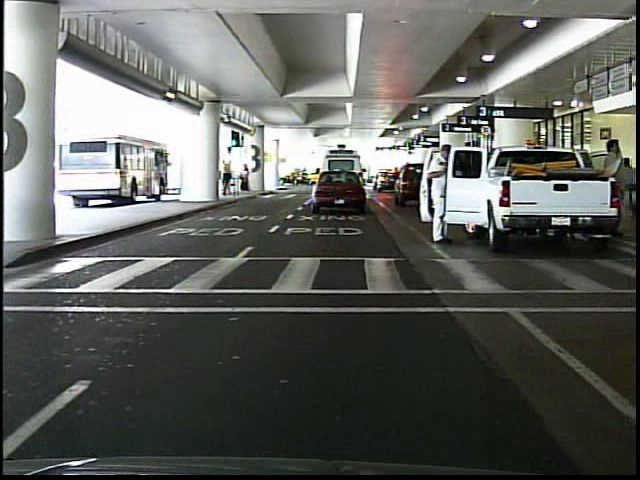person: (596, 136, 625, 233), (423, 139, 448, 244), (620, 153, 637, 214), (220, 157, 234, 198), (239, 163, 254, 195)
